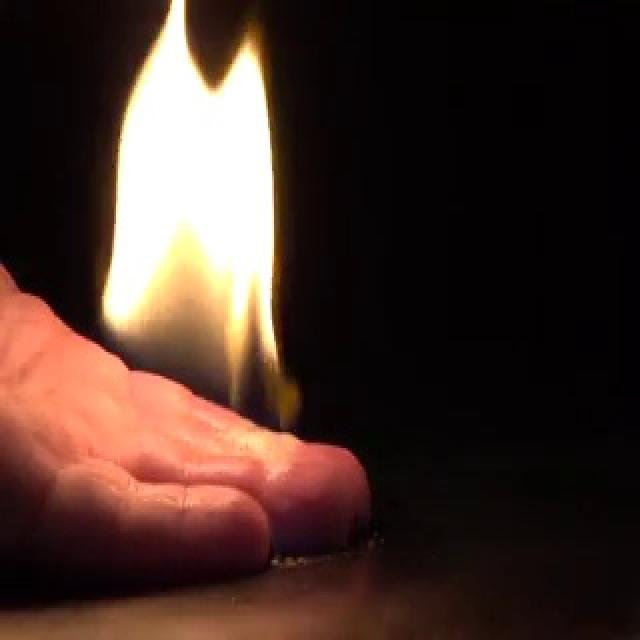fire: (167, 110, 271, 430)
